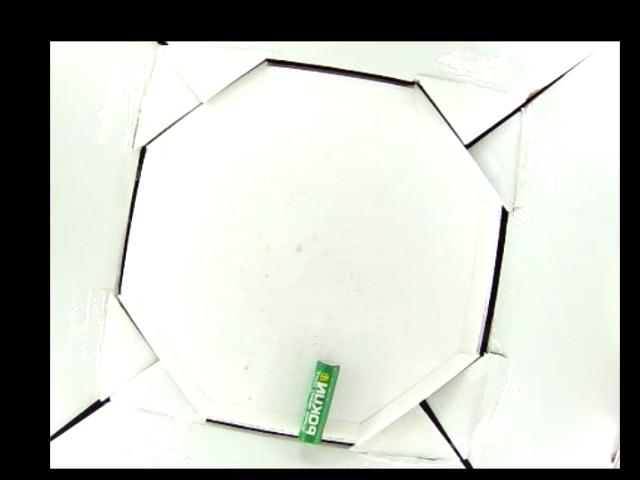Battery: (298, 359, 339, 445)
